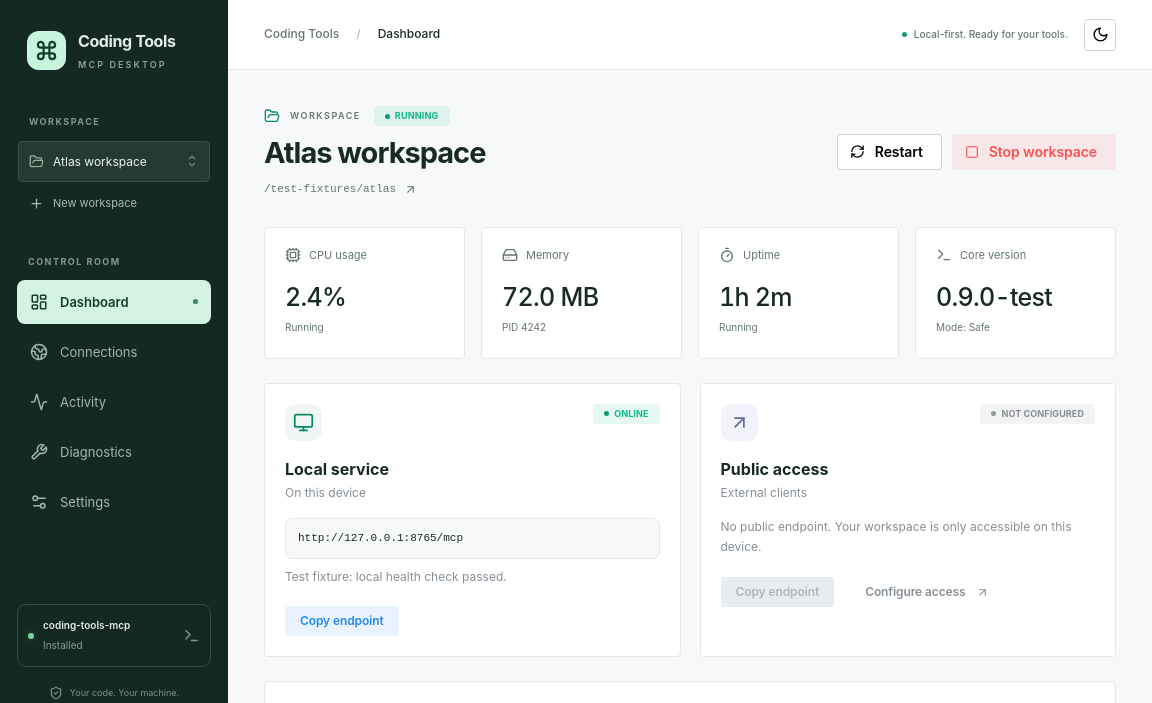
viewport-anchored operation feedback › replaces clipboard success and error feedback across repeated copy attempts
Step 1. Click the button "Copy endpoint" below "Test fixture: local health check passed." → (342, 621), box [285,606,399,636]
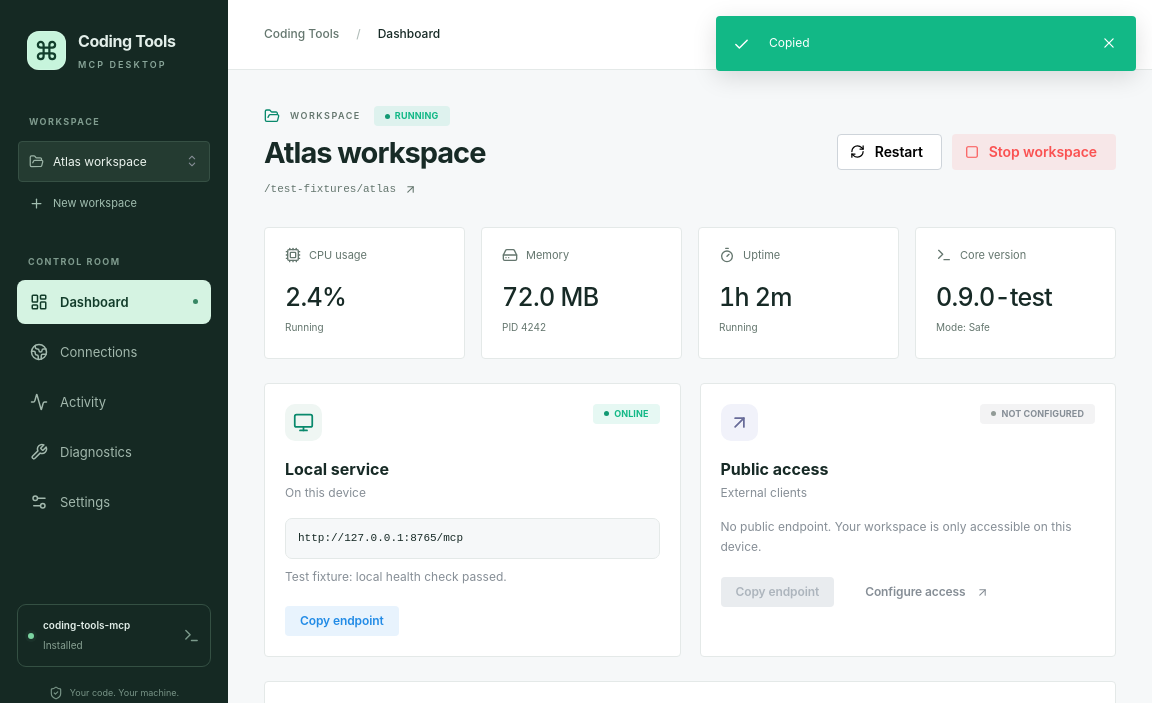
Expected: the message reads "Copied", [769,35,810,50]
Step 2. Click the button "Copy endpoint" below "Test fixture: local health check passed." → (342, 621), box [285,606,399,636]
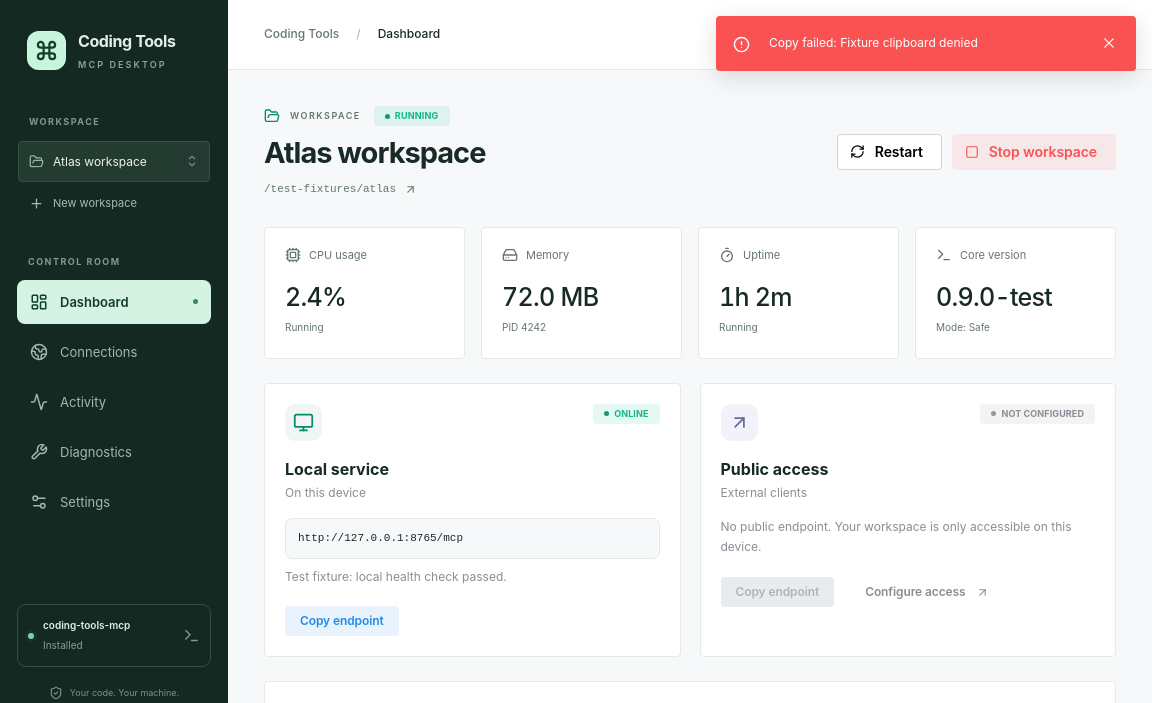
Expected: the message reads "Copy failed: Fixture clipboard denied", [769,35,978,50]
Step 3. Click the button "Copy endpoint" below "Test fixture: local health check passed." → (342, 621), box [285,606,399,636]
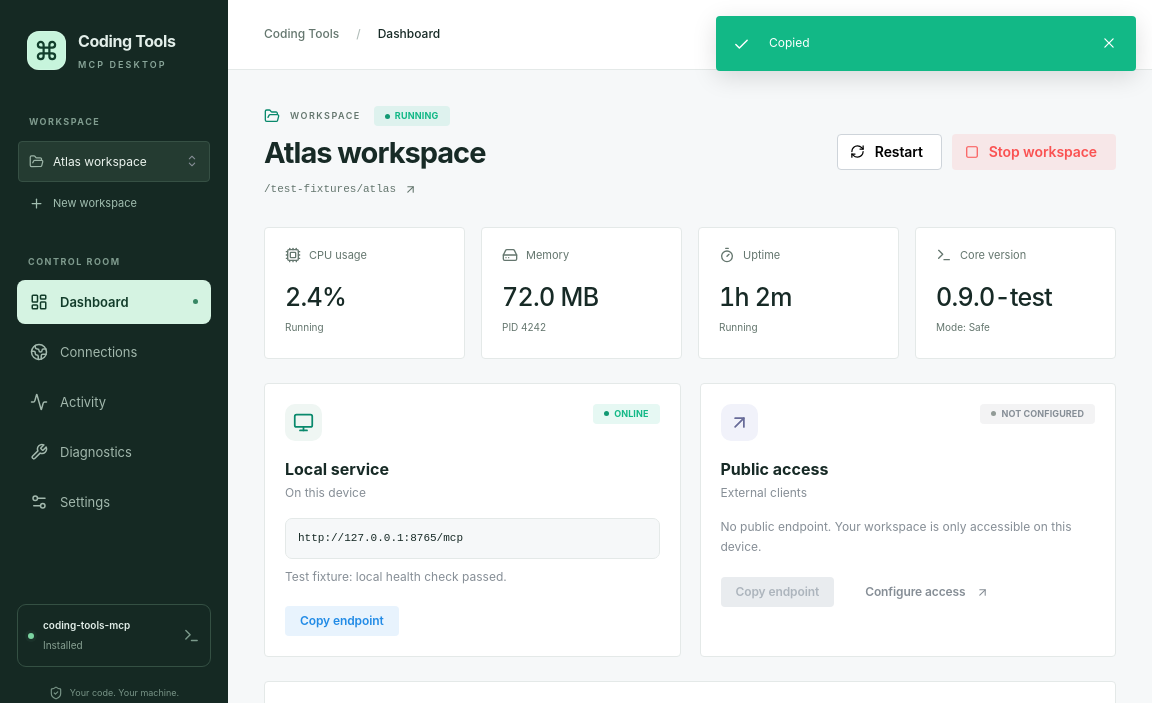
Expected: the message reads "Copied", [769,35,810,50]
